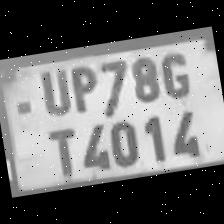0: (102, 112, 142, 169)
1: (134, 108, 171, 166)
4: (160, 101, 204, 162), (72, 117, 112, 174)
7: (90, 56, 132, 116)
8: (124, 50, 164, 108)
G: (154, 44, 194, 100)
P: (63, 60, 101, 117)
T: (39, 122, 82, 180)
U: (32, 63, 74, 119)
